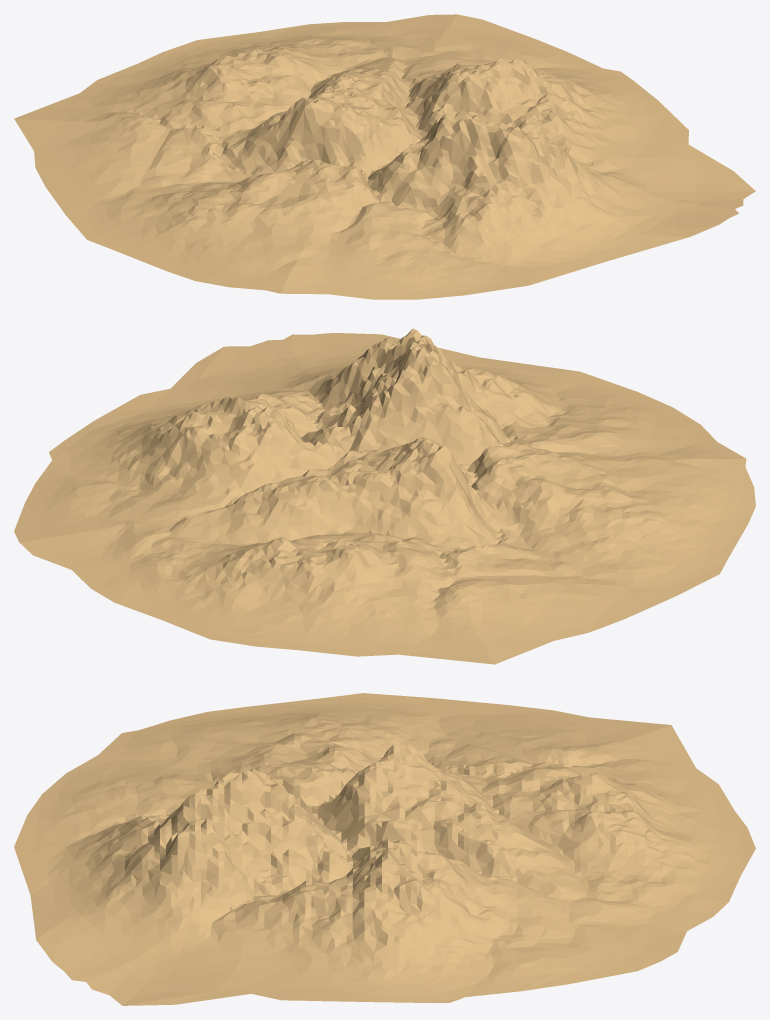
Rendered from MT_Island_L_f_01.fbx.
The picture shows the model from 3 angles, top to bottom: view 1: azimuth 30°, elevation 25°; view 2: azimuth 150°, elevation 25°; view 3: azimuth 270°, elevation 25°; orthographic projection. The views are drawn at different scales.
Parts seen in each view (by area): view 1: MT_Island_L_f_01; view 2: MT_Island_L_f_01; view 3: MT_Island_L_f_01.
Part boxes in pixels (left/top/right/bottom): MT_Island_L_f_01: left=14, top=14, right=755, bottom=299; MT_Island_L_f_01: left=14, top=328, right=755, bottom=664; MT_Island_L_f_01: left=14, top=693, right=755, bottom=1005.
Bounding box in the file's own units: 19775 × 3222 × 20000.
